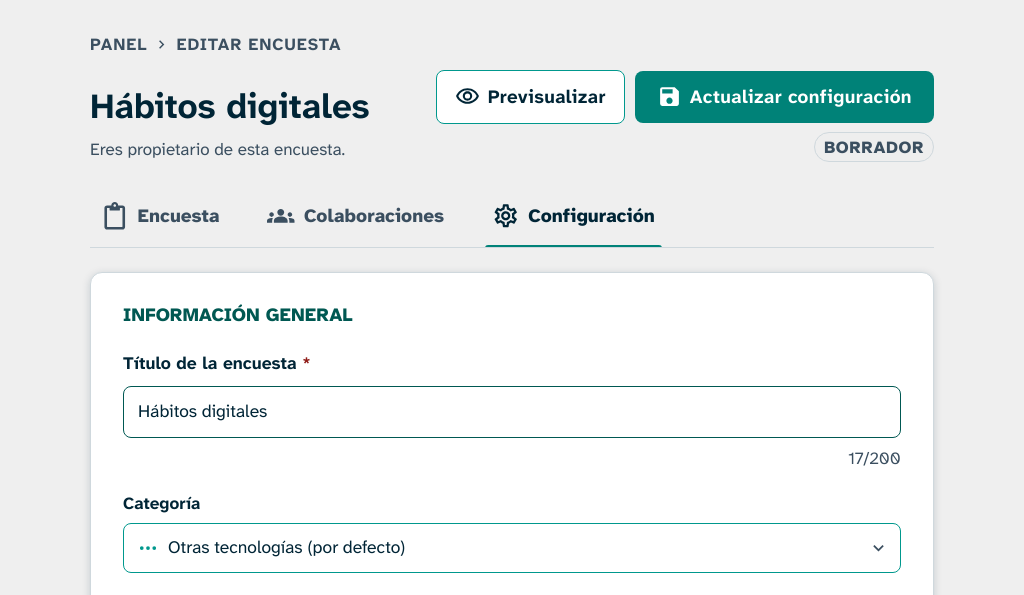
EditSurveyPage › guarda un cambio de título desde configuración
Replace the text in the field labelled "Título de la encuesta *" with "Nuevo título": (512, 412) [123,386,901,438]
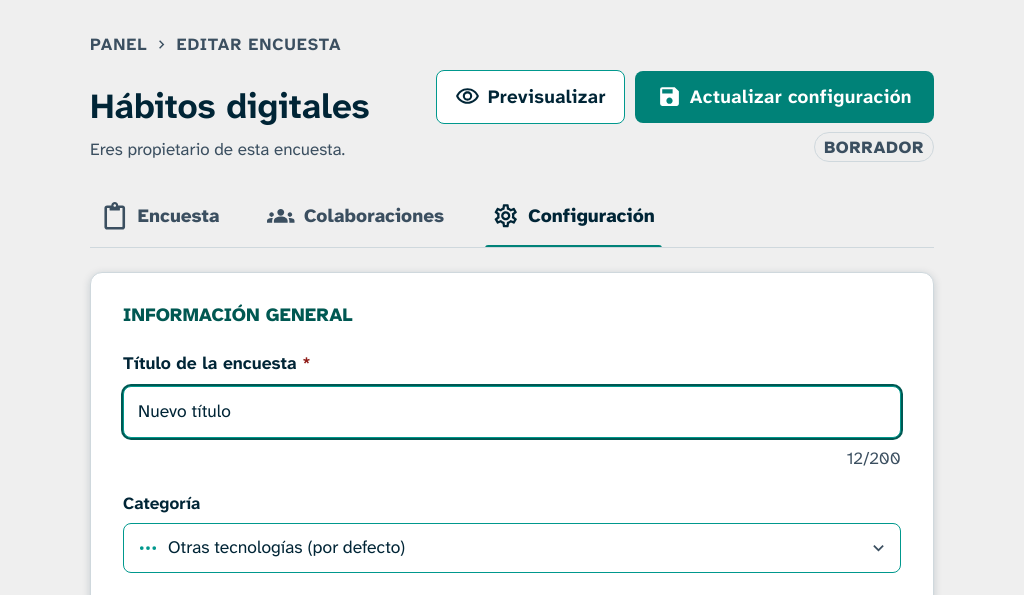
Click the button "Actualizar configuración": (784, 97) [635,70,934,123]
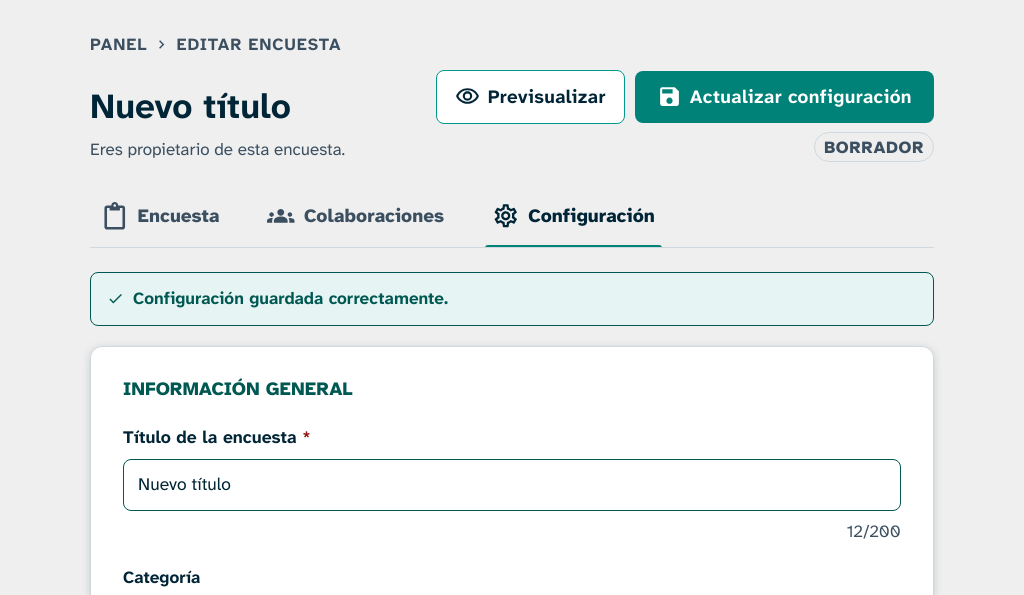
Expected: the message reads "Configuración guardada correctamente.", [133,287,448,309]
